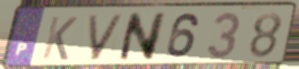3: (205, 10, 242, 61)
6: (165, 11, 201, 62)
8: (246, 10, 285, 61)
K: (39, 15, 80, 62)
N: (116, 11, 169, 64)
V: (85, 13, 127, 63)
